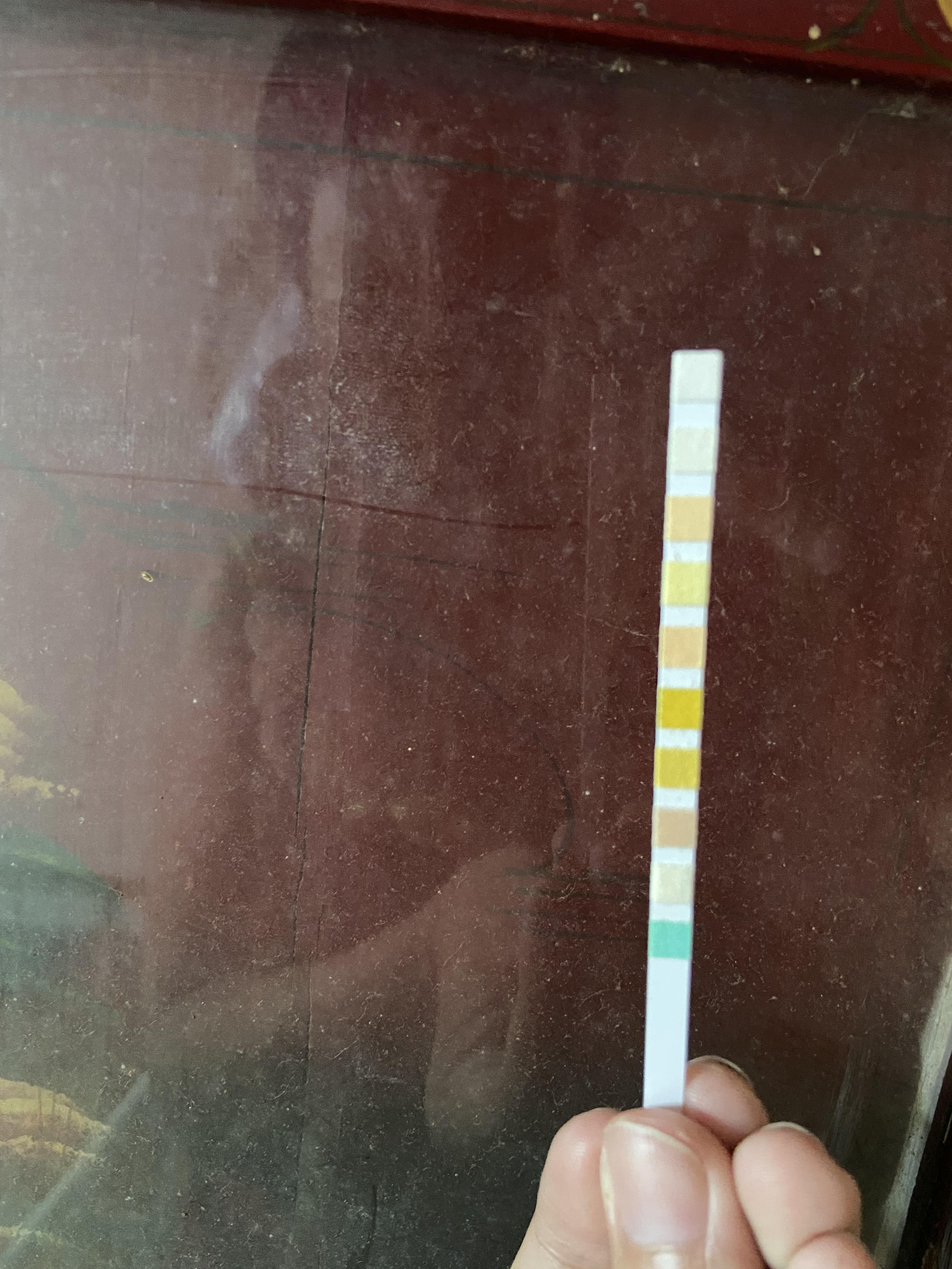Bilirubin: (653, 866, 692, 903)
Blood: (662, 691, 699, 727)
Glucose: (650, 923, 690, 956)
Ketone: (655, 813, 694, 846)
Leukocytes: (675, 355, 717, 400)
Nitrite: (673, 430, 713, 472)
Protein: (667, 564, 706, 603)
SpGravity: (659, 751, 698, 787)
Urobilinogen: (669, 499, 709, 540)
pH: (664, 628, 703, 667)
strip: (644, 352, 723, 1101)
